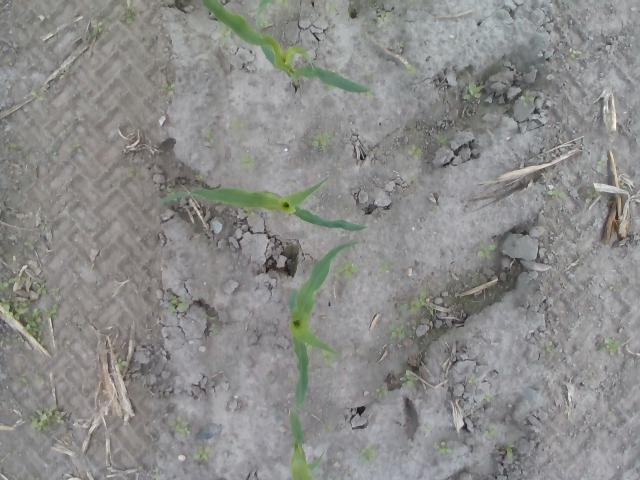Maize: (198, 0, 370, 95), (286, 236, 361, 415), (157, 174, 369, 232), (286, 406, 324, 480)
Weeds: (0, 269, 64, 348), (399, 288, 438, 316), (29, 406, 66, 432), (310, 127, 338, 160), (334, 255, 360, 280), (14, 367, 46, 386), (167, 414, 191, 436), (382, 320, 407, 340), (357, 441, 377, 465), (239, 142, 257, 168), (322, 350, 343, 370), (463, 80, 482, 102), (166, 294, 188, 313), (604, 336, 626, 353), (206, 313, 222, 336), (478, 241, 498, 259), (191, 444, 211, 462), (544, 186, 568, 200), (375, 9, 392, 26), (376, 256, 393, 273), (125, 0, 136, 25), (432, 440, 450, 455), (480, 423, 498, 437), (402, 368, 416, 386), (254, 18, 274, 30), (90, 17, 104, 34), (162, 80, 176, 96), (408, 145, 423, 159), (220, 23, 233, 39), (504, 436, 513, 459), (374, 384, 388, 398), (30, 88, 44, 102), (229, 118, 248, 128), (520, 94, 534, 107), (302, 48, 314, 62), (404, 64, 418, 76), (584, 190, 596, 204), (207, 126, 216, 144), (569, 46, 581, 59), (114, 357, 128, 368), (23, 238, 34, 252), (436, 134, 448, 146), (242, 206, 256, 216), (544, 340, 555, 352), (6, 142, 18, 153), (596, 160, 604, 174), (366, 71, 377, 81), (325, 4, 337, 13), (287, 366, 293, 384), (154, 464, 160, 480), (274, 0, 289, 6), (482, 391, 492, 400), (194, 174, 205, 182), (468, 376, 476, 385), (322, 426, 332, 433), (399, 40, 407, 48), (72, 143, 82, 149), (330, 334, 338, 340)
